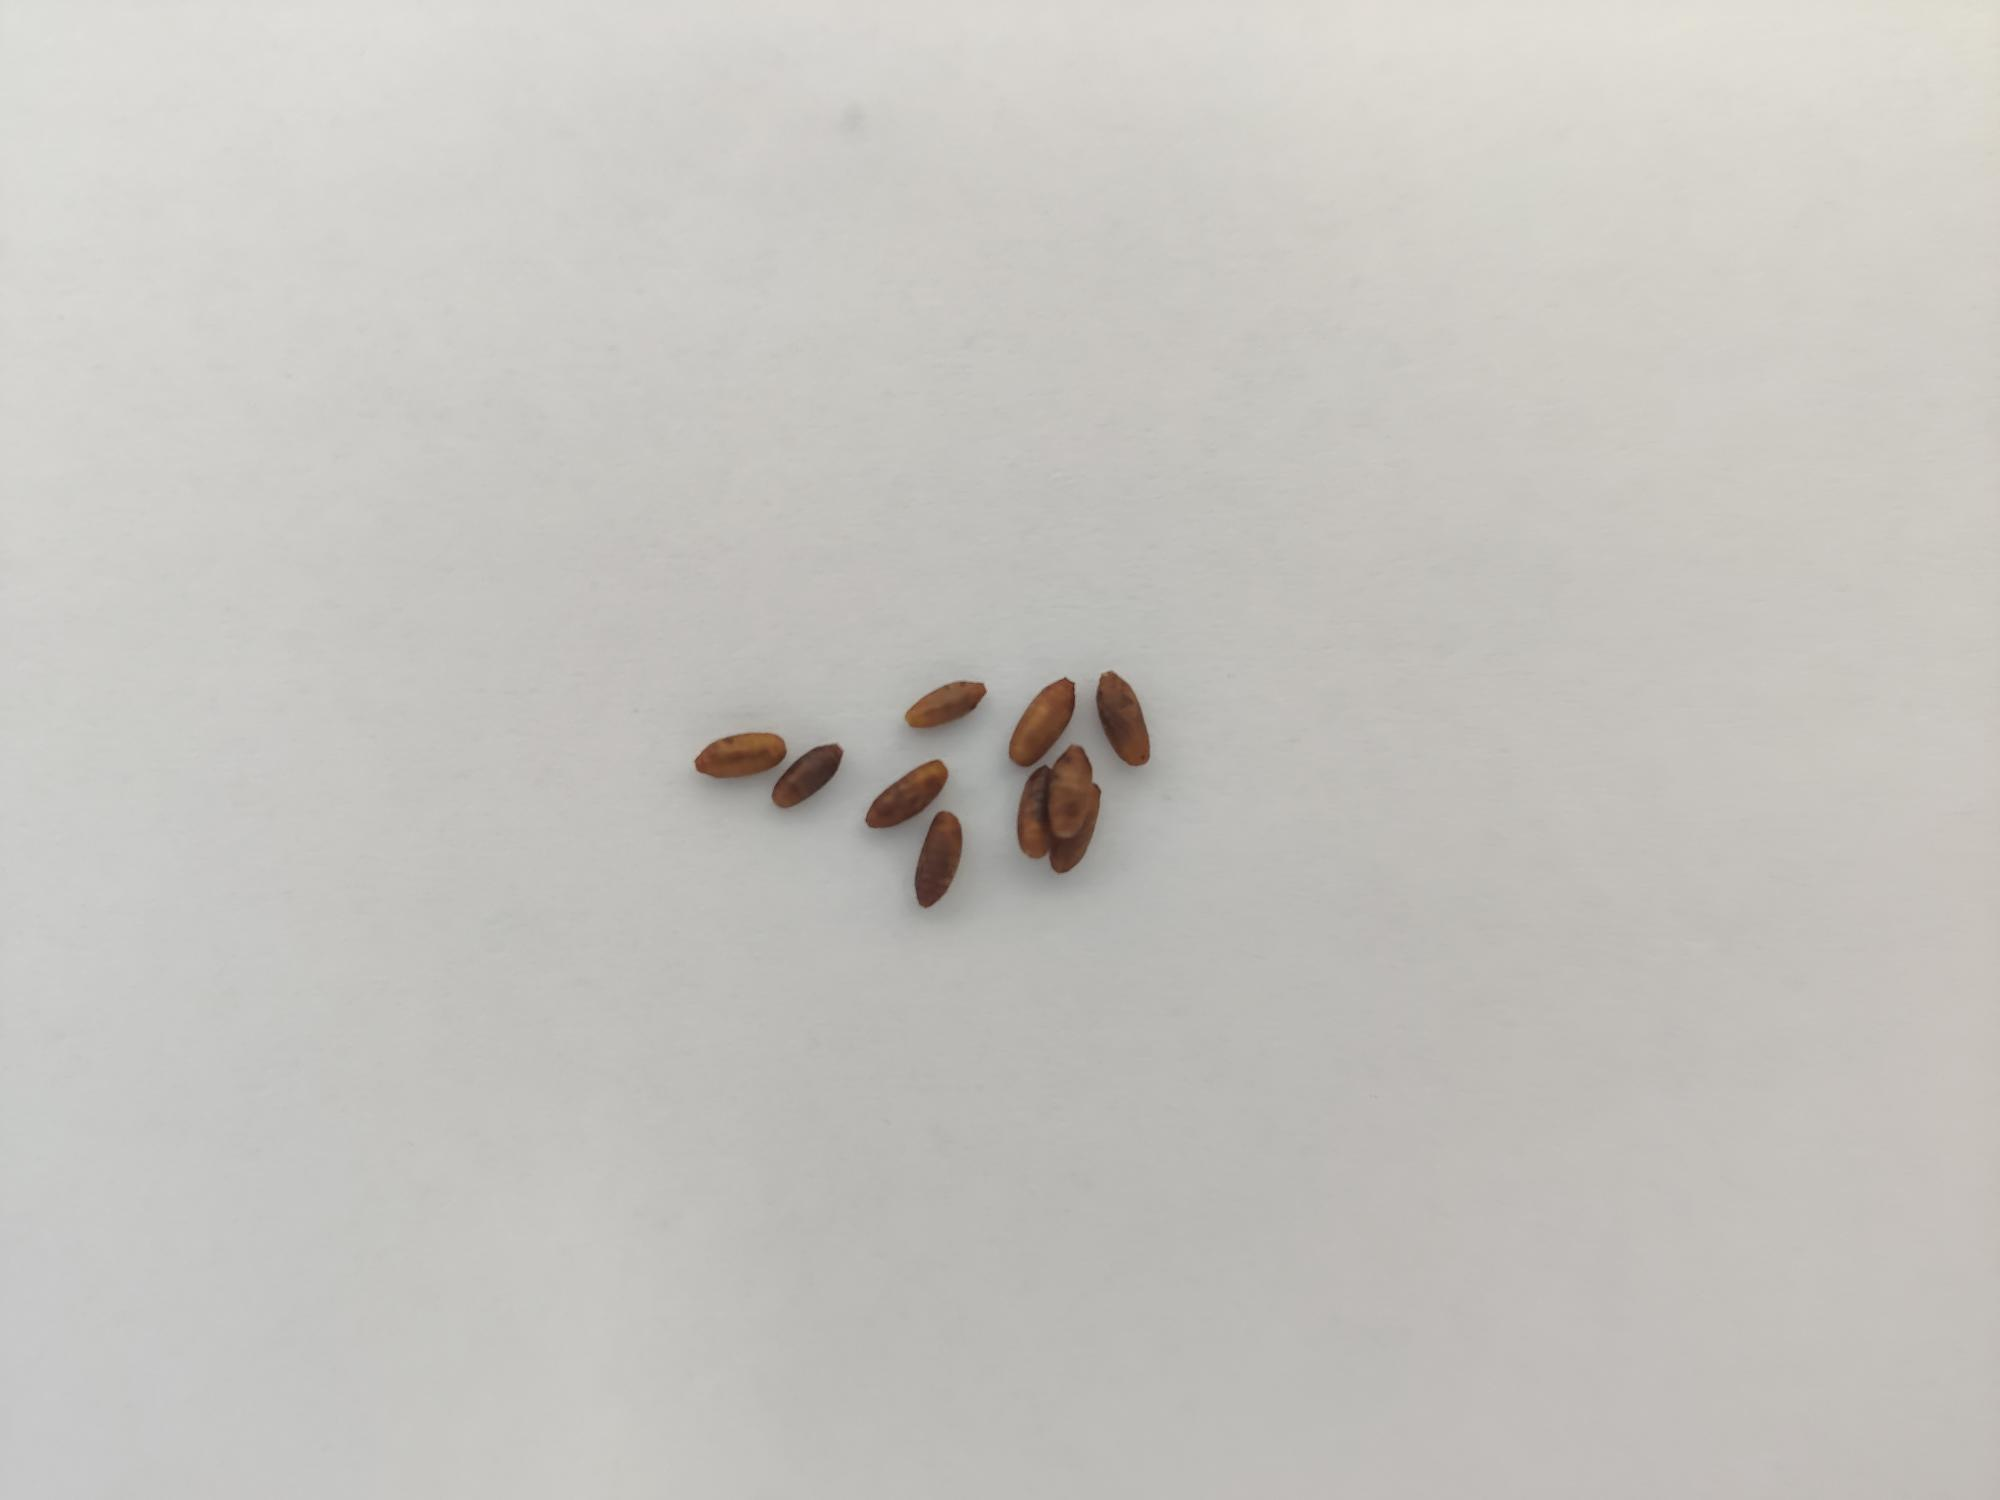pupae: (855, 752, 956, 840), (1002, 670, 1090, 769), (1090, 662, 1161, 770), (909, 807, 978, 915), (896, 670, 997, 737), (687, 723, 791, 788), (770, 739, 852, 813), (1044, 737, 1096, 846), (1049, 782, 1104, 882), (1013, 761, 1057, 867)
